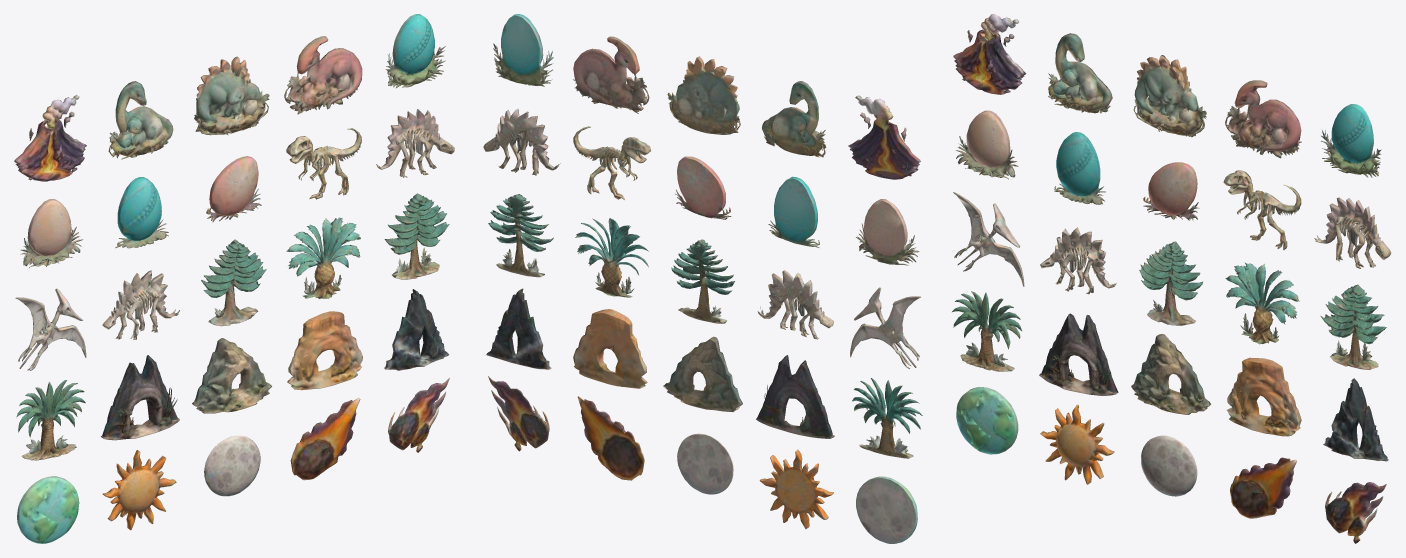
The picture shows the model from 3 angles, left to right: view 1: azimuth 30°, elevation 25°; view 2: azimuth 150°, elevation 25°; view 3: azimuth 330°, elevation 25°; orthographic projection.
Visible parts, largest first — view 1: Mesh 14, Mesh 22, Mesh 19, Mesh 8, Mesh 13, Mesh 6, Mesh 20, Mesh 5, Mesh 26, Mesh 11, Mesh 15, Mesh 1 (+13 smaller); view 2: Mesh 14, Mesh 22, Mesh 19, Mesh 13, Mesh 8, Mesh 6, Mesh 5, Mesh 23, Mesh 25, Mesh 11, Mesh 10, Mesh 1 (+13 smaller); view 3: Mesh 14, Mesh 22, Mesh 19, Mesh 8, Mesh 13, Mesh 6, Mesh 20, Mesh 5, Mesh 26, Mesh 11, Mesh 15, Mesh 1 (+13 smaller).
Boxes of the visible parts, x1,y1,x2,y2 form: Mesh 14: [194, 56, 269, 135]; Mesh 22: [287, 311, 362, 390]; Mesh 19: [284, 36, 362, 114]; Mesh 8: [101, 355, 179, 440]; Mesh 13: [192, 338, 271, 413]; Mesh 6: [14, 94, 86, 181]; Mesh 20: [286, 217, 360, 298]; Mesh 5: [17, 476, 79, 543]; Mesh 26: [384, 193, 449, 279]; Mesh 11: [108, 81, 173, 159]; Mesh 15: [201, 239, 266, 326]; Mesh 1: [16, 380, 85, 460]; Mesh 14: [667, 56, 740, 134]; Mesh 22: [573, 309, 647, 388]; Mesh 19: [573, 36, 649, 113]; Mesh 13: [663, 336, 742, 411]; Mesh 8: [756, 355, 834, 438]; Mesh 6: [848, 95, 920, 179]; Mesh 5: [856, 476, 917, 543]; Mesh 23: [577, 396, 644, 480]; Mesh 25: [493, 14, 553, 86]; Mesh 11: [762, 81, 826, 157]; Mesh 10: [759, 449, 833, 529]; Mesh 1: [852, 378, 922, 458]; Mesh 14: [1133, 55, 1206, 137]; Mesh 22: [1227, 357, 1301, 436]; Mesh 19: [1225, 80, 1301, 158]; Mesh 8: [1039, 313, 1118, 395]; Mesh 13: [1131, 334, 1211, 414]; Mesh 6: [953, 14, 1026, 94]; Mesh 20: [1225, 262, 1299, 344]; Mesh 5: [956, 387, 1018, 454]; Mesh 26: [1320, 284, 1386, 369]; Mesh 11: [1048, 33, 1112, 113]; Mesh 15: [1139, 241, 1202, 325]; Mesh 1: [952, 291, 1021, 371].
Bounding box in the file's own units: 1.9 × 1.86 × 0.0626.
25 materials, 25 textured.
